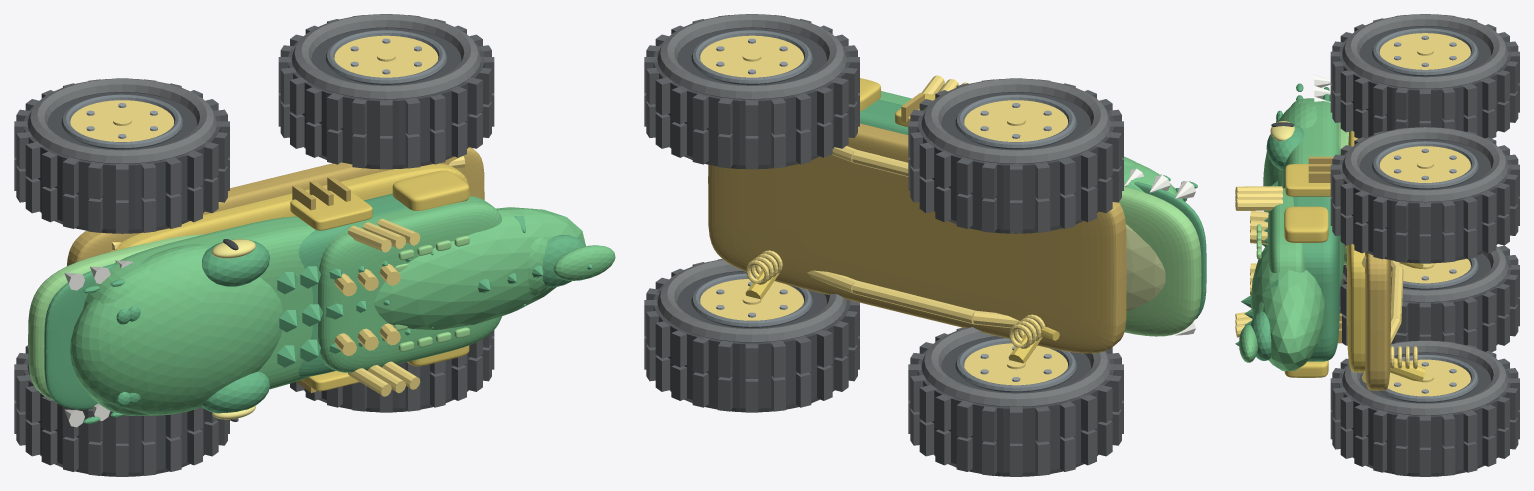
Rendered from monster-truck.glb.
The picture shows the model from 3 angles, left to right: view 1: azimuth 30°, elevation 25°; view 2: azimuth 150°, elevation 25°; view 3: azimuth 270°, elevation 25°; orthographic projection. The views are drawn at different scales.
Visible parts, largest first — view 1: body__green, body__green_dark, front_L__tread, rear_L__tread, body__gold, front_R__tread, front_L__rubber_soft, rear_L__rubber_soft, rear_L__tire, front_L__tire, body__gold_dark, body__gold_bright (+10 smaller); view 2: body__gold_dark, rear_L__tread, front_L__tread, front_R__tread, rear_R__tread, body__green_light, front_L__rubber_soft, rear_L__rubber_soft, rear_L__tire, front_L__tire, rear_R__tire, body__gold_bright (+16 smaller); view 3: body__green, rear_L__tread, rear_R__tread, front_L__tread, body__gold, body__green_dark, front_R__tread, rear_L__rubber_soft, rear_L__tire, front_L__rubber_soft, rear_R__tire, rear_R__rubber_soft (+16 smaller).
Boxes of the visible parts, <box> form: body__green: <box>70,196,615,415</box>; body__green_dark: <box>44,193,592,423</box>; front_L__tread: <box>14,78,229,233</box>; rear_L__tread: <box>278,14,494,169</box>; body__gold: <box>110,163,469,391</box>; front_R__tread: <box>14,345,229,476</box>; front_L__rubber_soft: <box>27,78,216,233</box>; rear_L__rubber_soft: <box>291,14,480,169</box>; rear_L__tire: <box>288,27,484,165</box>; front_L__tire: <box>24,92,220,229</box>; body__gold_dark: <box>67,147,484,392</box>; body__gold_bright: <box>112,156,465,396</box>; body__gold_dark: <box>708,93,1126,353</box>; rear_L__tread: <box>644,14,859,169</box>; front_L__tread: <box>908,78,1123,233</box>; front_R__tread: <box>908,327,1123,476</box>; rear_R__tread: <box>644,259,859,412</box>; body__green_light: <box>1119,186,1201,336</box>; front_L__rubber_soft: <box>921,78,1110,233</box>; rear_L__rubber_soft: <box>657,14,846,169</box>; rear_L__tire: <box>653,27,850,165</box>; front_L__tire: <box>917,92,1114,229</box>; rear_R__tire: <box>653,271,850,408</box>; body__gold_bright: <box>746,75,1045,348</box>; body__green: <box>1239,98,1344,370</box>; rear_L__tread: <box>1330,128,1519,263</box>; rear_R__tread: <box>1330,341,1519,476</box>; front_L__tread: <box>1330,14,1519,138</box>; body__gold: <box>1284,131,1425,381</box>; body__green_dark: <box>1235,83,1339,361</box>; front_R__tread: <box>1339,245,1519,351</box>; rear_L__rubber_soft: <box>1342,127,1508,263</box>; rear_L__tire: <box>1339,139,1511,259</box>; front_L__rubber_soft: <box>1342,14,1508,131</box>; rear_R__tire: <box>1339,352,1511,473</box>; rear_R__rubber_soft: <box>1342,340,1508,476</box>.
Size of the model in its own units: 4.84 by 2.84 by 2.57.
